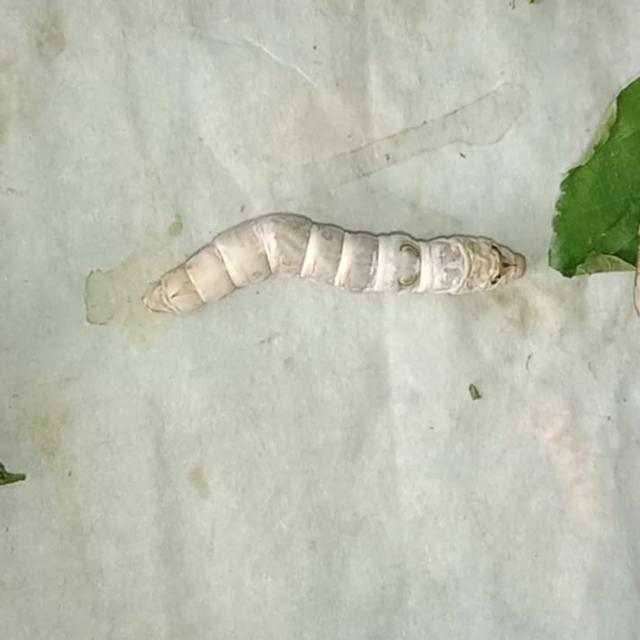Grasserie: (133, 206, 538, 331)
